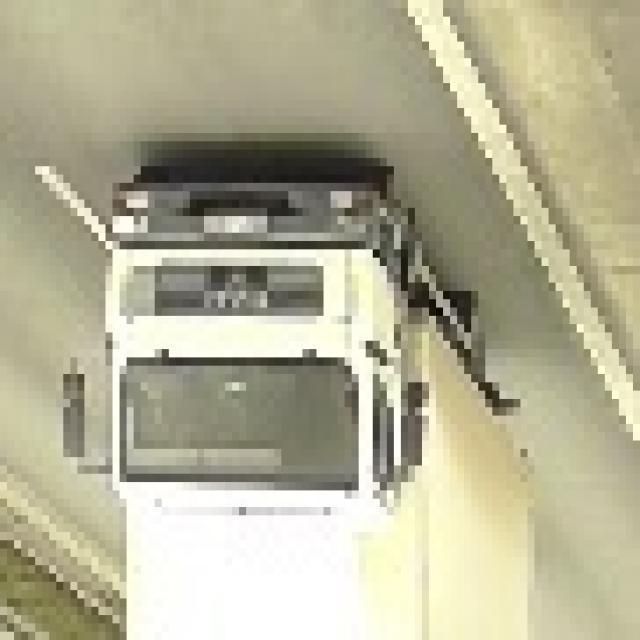truck: (56, 150, 527, 640)
